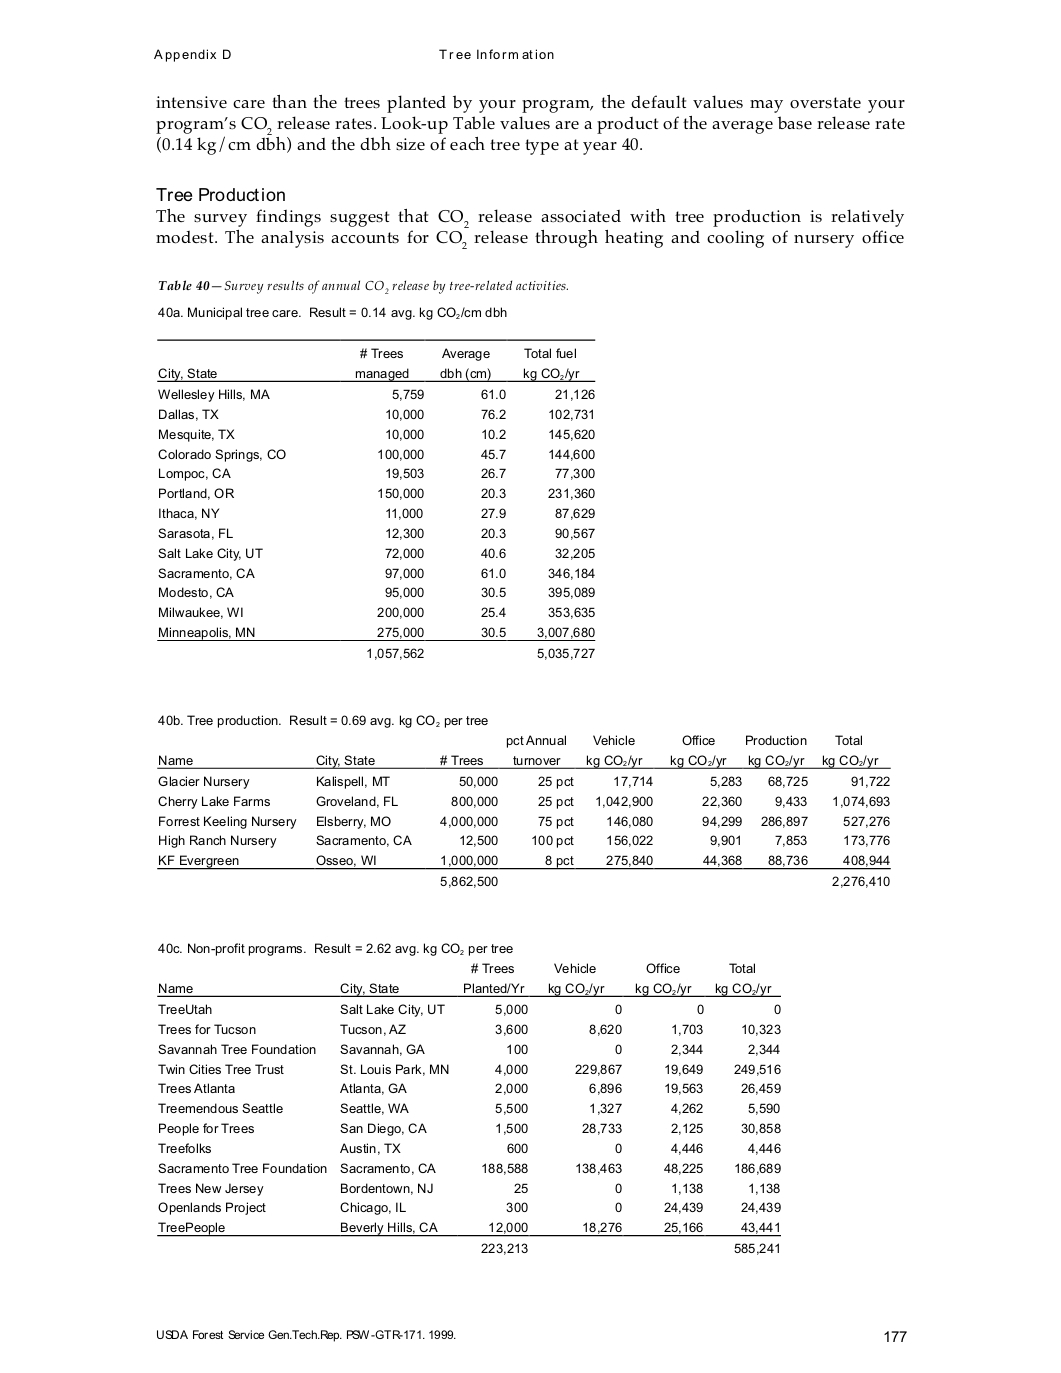Table: (157, 963, 780, 1254), (157, 339, 595, 659), (157, 736, 890, 887)
